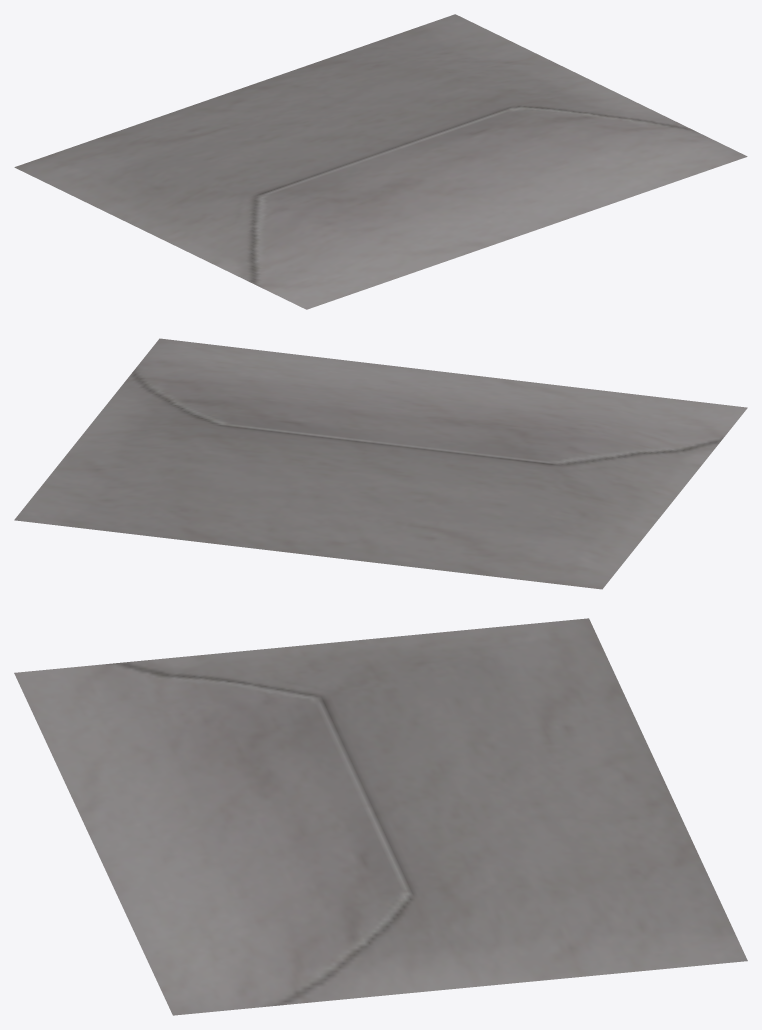
The model's file is XiuXiShi_01_xinfeng_01.FBX.
The picture shows the model from 3 angles, top to bottom: view 1: azimuth 30°, elevation 25°; view 2: azimuth 150°, elevation 25°; view 3: azimuth 270°, elevation 25°; orthographic projection. The views are drawn at different scales.
Parts seen in each view (by area): view 1: XiuXiShi_xingfeng; view 2: XiuXiShi_xingfeng; view 3: XiuXiShi_xingfeng.
Boxes of the visible parts, x1,y1,x2,y2 form: XiuXiShi_xingfeng: (14, 14, 747, 309); XiuXiShi_xingfeng: (14, 338, 747, 589); XiuXiShi_xingfeng: (14, 618, 747, 1015).
Bounding box in the file's own units: 110 × 4.92 × 90.92.
